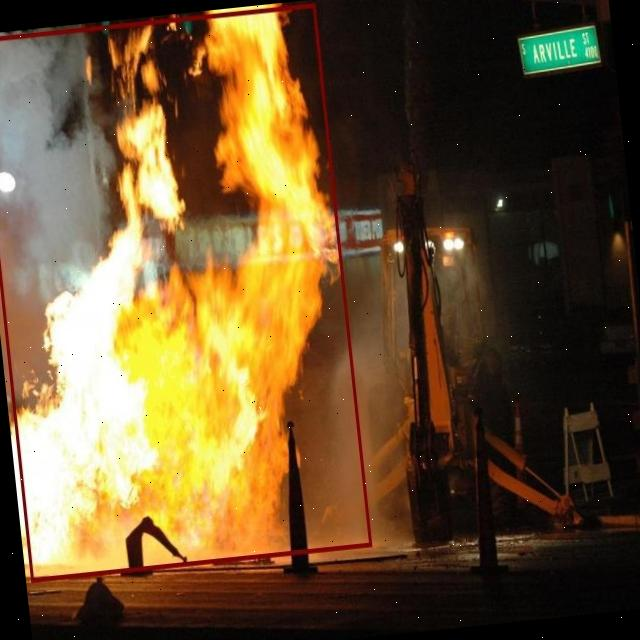fire: (0, 3, 371, 582)
